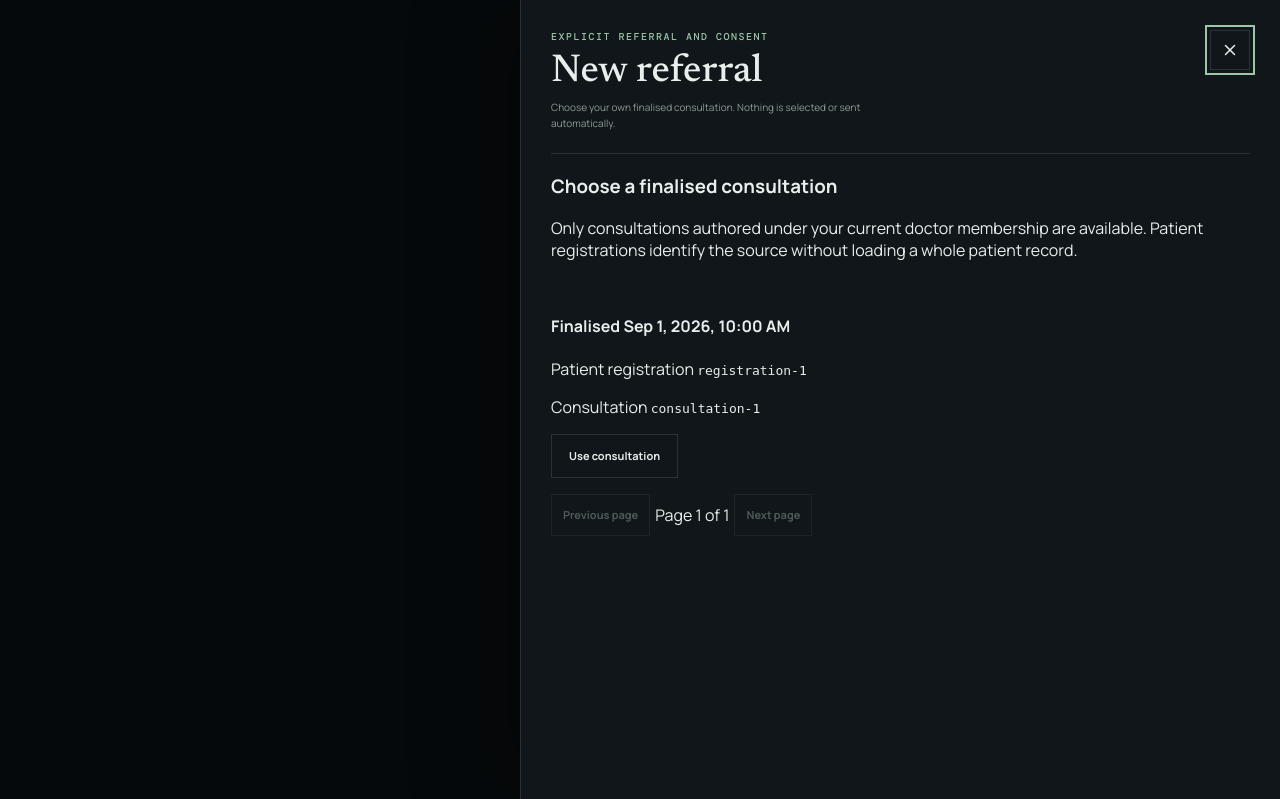
Scenario: discovers minimal author sources before loading a record, with no preselected resource or consent
Click the button "Use consultation" at [615, 456], box top-left (551, 434), bottom-right (678, 478)
(page scrolled)
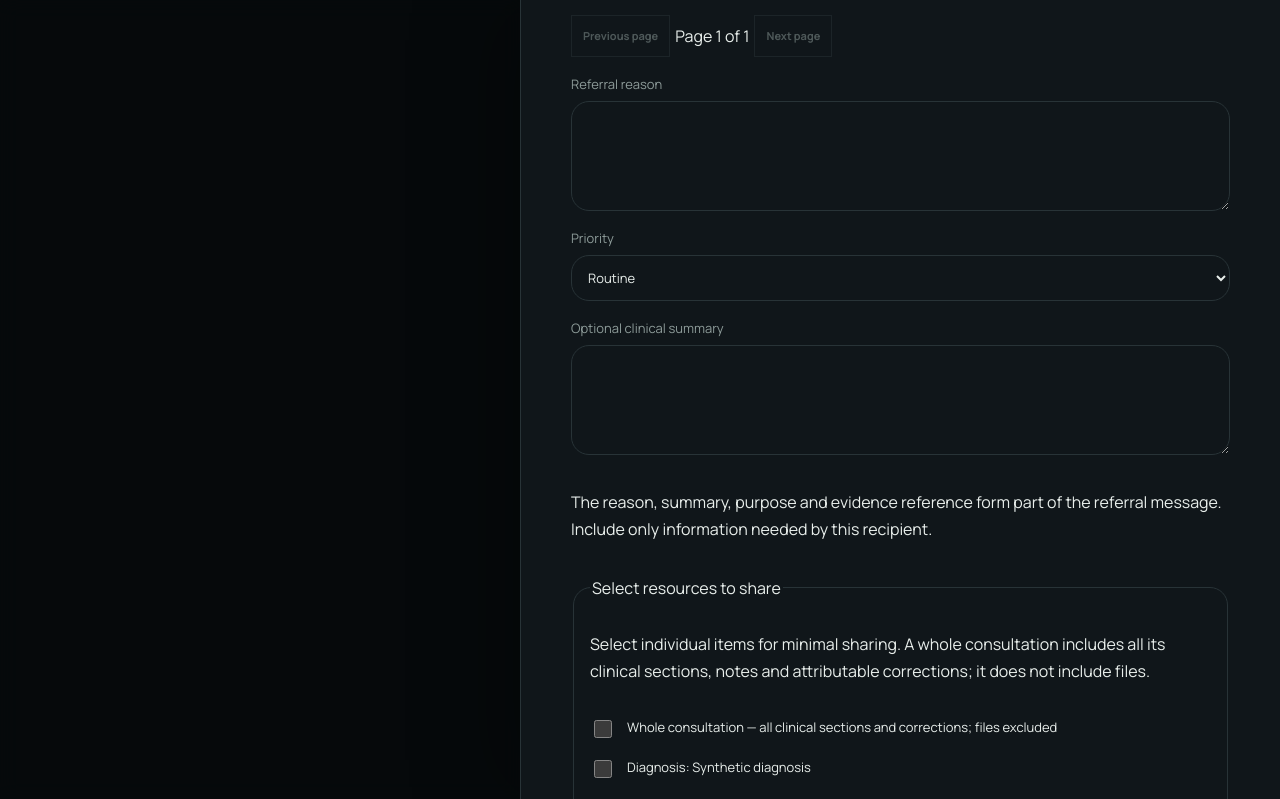
Expected: the text box labelled "Referral reason" is shown, top-left (571, 101), bottom-right (1230, 211)
Expected: the text box labelled "Optional clinical summary" is empty, top-left (571, 345), bottom-right (1230, 455)
